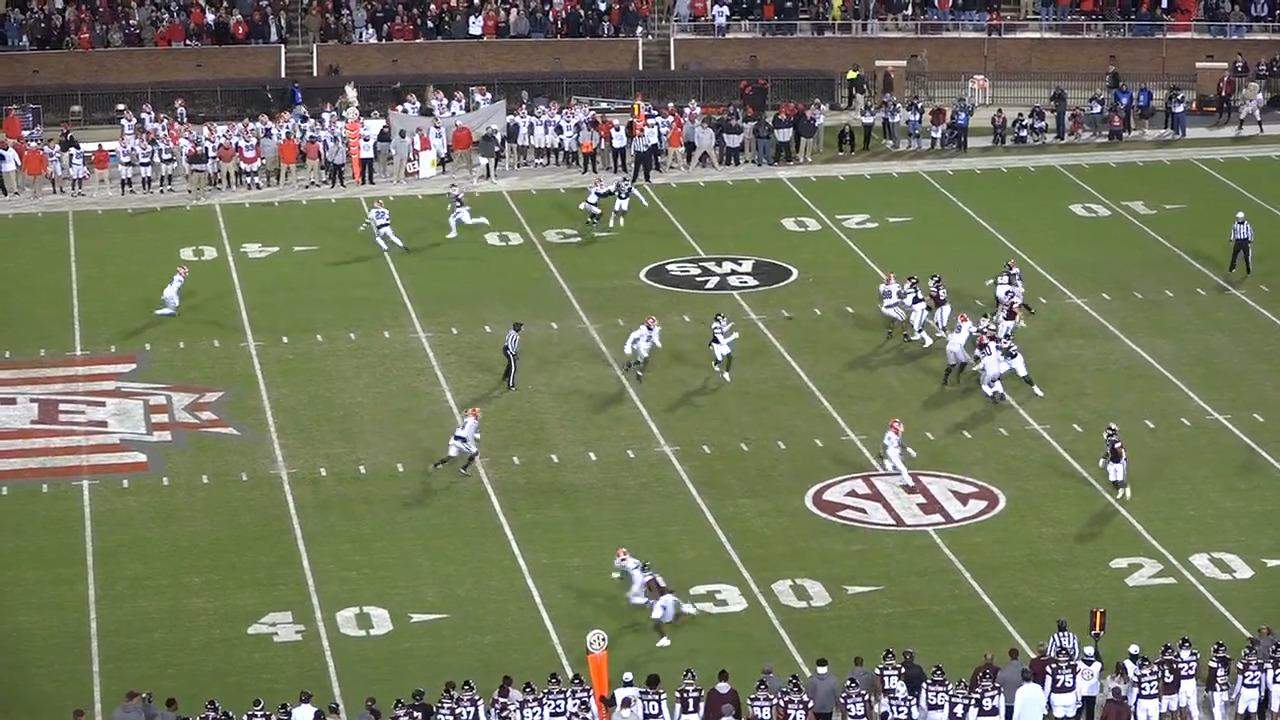player: (637, 564, 686, 650), (437, 405, 489, 480), (876, 419, 917, 496), (985, 261, 1039, 316), (944, 315, 982, 393), (995, 336, 1042, 399), (626, 316, 669, 384), (1096, 420, 1131, 502), (893, 277, 931, 351), (703, 312, 738, 388), (357, 198, 403, 255), (616, 548, 655, 614), (873, 275, 909, 345), (977, 340, 1012, 406), (994, 260, 1031, 321), (152, 268, 191, 324), (925, 273, 954, 343), (445, 184, 477, 243), (609, 178, 637, 235), (581, 178, 608, 231), (993, 289, 1020, 341), (973, 315, 1002, 363)
ref: (501, 321, 530, 396), (1221, 212, 1252, 280), (626, 126, 655, 190), (1044, 614, 1079, 665)
